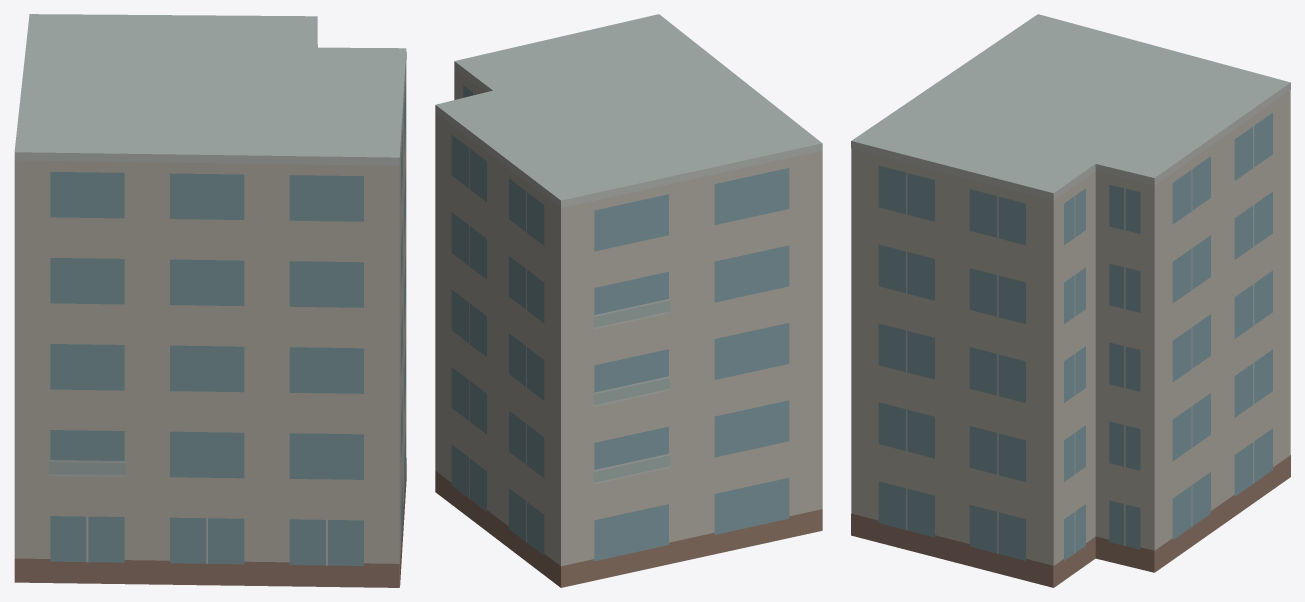
File: survey-upis-32680399.glb
3 renders of one model, left to right at view 1: azimuth 30°, elevation 25°; view 2: azimuth 150°, elevation 25°; view 3: azimuth 270°, elevation 25°, orthographic. The views are drawn at different scales.
Visible parts, largest first — view 1: survey-upis-32680399.tmp; view 2: survey-upis-32680399.tmp; view 3: survey-upis-32680399.tmp.
Boxes of the visible parts, x1,y1,x2,y2 form: survey-upis-32680399.tmp: (14,14,406,587); survey-upis-32680399.tmp: (435,14,822,587); survey-upis-32680399.tmp: (851,14,1290,587).
Size of the model in its own units: 12.48 by 12.8 by 12.93.
